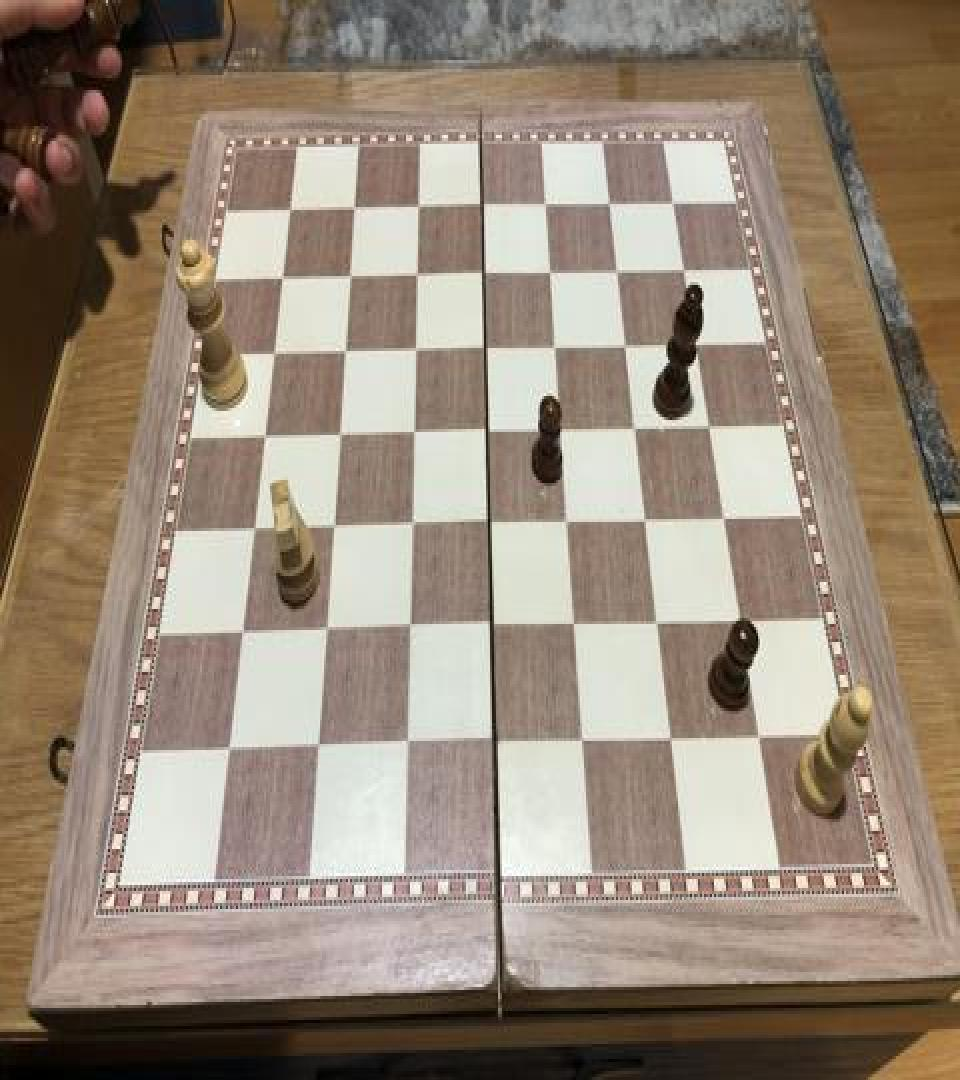xcorner: (750, 712, 774, 749), (575, 718, 599, 755), (665, 182, 689, 218), (601, 183, 625, 219), (538, 184, 562, 220), (474, 186, 498, 222), (347, 189, 371, 225), (282, 190, 306, 226), (676, 249, 700, 285), (609, 250, 633, 286), (543, 252, 567, 288), (476, 254, 500, 290), (409, 256, 433, 292), (342, 258, 366, 294), (687, 322, 711, 358), (618, 324, 642, 360), (548, 327, 572, 363), (407, 330, 431, 366), (337, 333, 361, 369), (266, 334, 290, 370), (701, 405, 725, 441), (627, 406, 651, 442), (553, 408, 577, 444), (479, 411, 503, 447), (331, 416, 355, 452), (256, 417, 280, 453), (715, 495, 739, 531), (638, 498, 662, 534), (560, 501, 584, 537), (482, 502, 506, 538), (403, 506, 427, 542), (324, 507, 348, 543), (245, 510, 269, 546), (732, 597, 756, 633), (649, 600, 673, 636), (567, 603, 591, 639), (484, 606, 508, 642), (401, 609, 425, 645), (317, 612, 341, 648), (233, 615, 257, 651), (663, 716, 687, 752), (486, 723, 510, 759), (398, 726, 422, 762), (309, 729, 333, 765), (219, 732, 243, 768), (411, 188, 435, 223), (274, 260, 298, 295), (478, 329, 502, 364), (405, 413, 429, 448)
